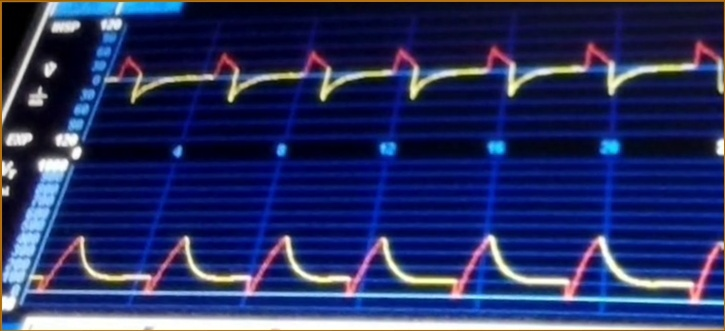Flow: (116, 30, 725, 128)
Leakage Volume: (50, 203, 725, 313)
